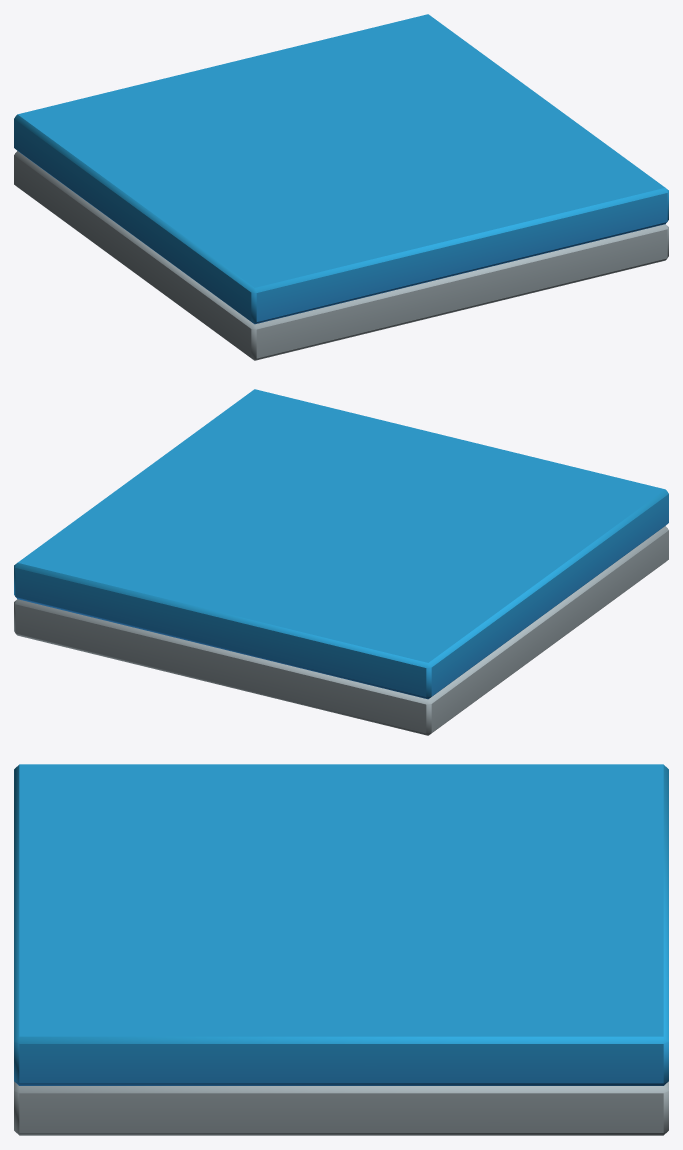
The model's file is platform_6x6x1_blue.glb.
3 views of the same model, one above another, from view 1: azimuth 30°, elevation 25°; view 2: azimuth 150°, elevation 25°; view 3: azimuth 270°, elevation 25° (orthographic). The views are drawn at different scales.
Visible parts, largest first — view 1: platform_6x6x1_blue; view 2: platform_6x6x1_blue; view 3: platform_6x6x1_blue.
Part boxes in pixels (x1,y1,x2,y2): platform_6x6x1_blue: [14, 14, 668, 360]; platform_6x6x1_blue: [14, 389, 668, 735]; platform_6x6x1_blue: [14, 764, 668, 1135].
Size of the model in its own units: 6 by 1 by 6.
1 material, 1 textured.
